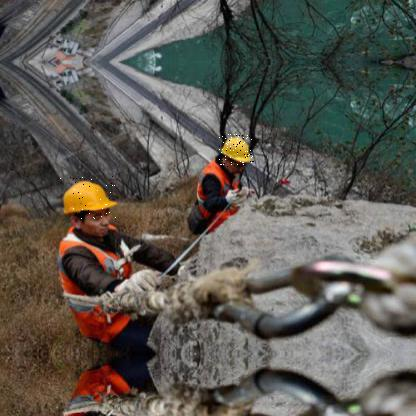safetyhelmet: (60, 176, 119, 220), (219, 134, 255, 168)
